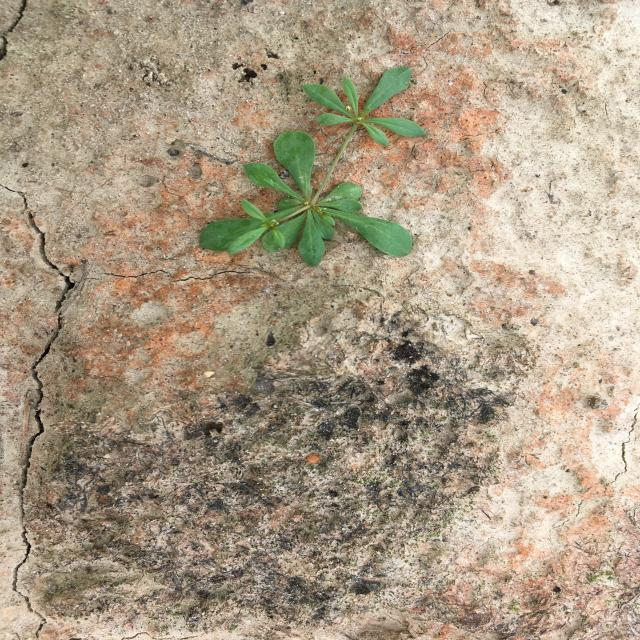Carpetweed: (200, 66, 428, 266)
